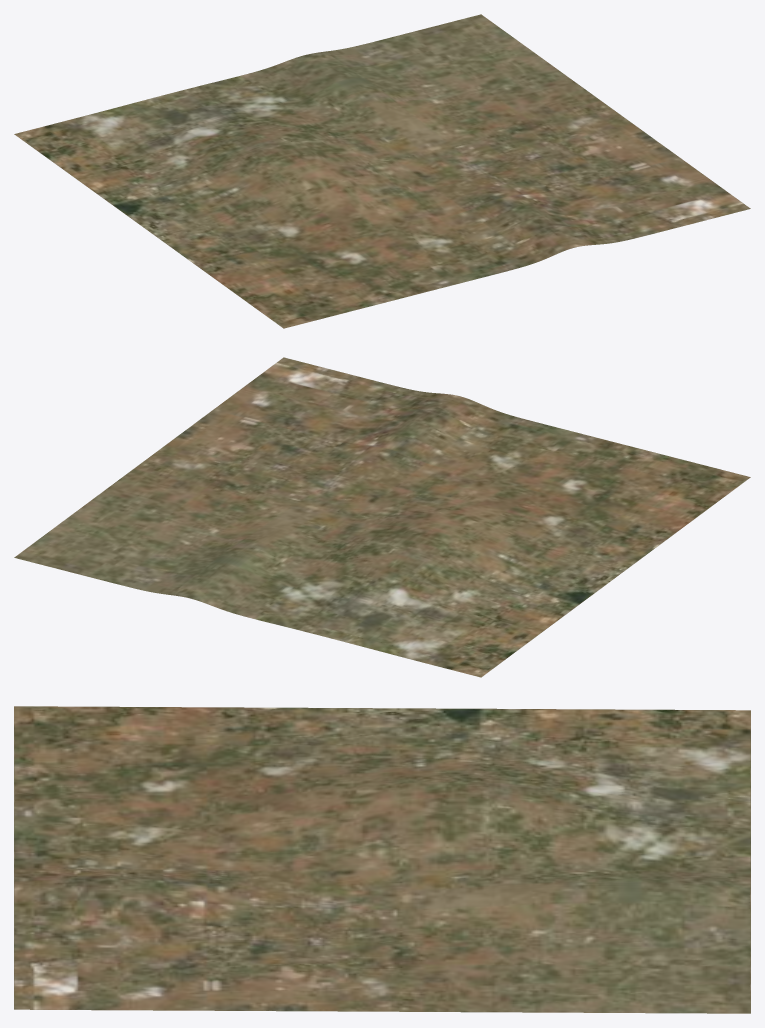
3 renders of one model, top to bottom at view 1: azimuth 30°, elevation 25°; view 2: azimuth 150°, elevation 25°; view 3: azimuth 270°, elevation 25°, orthographic. The views are drawn at different scales.
Visible parts, largest first — view 1: geometry_0; view 2: geometry_0; view 3: geometry_0.
Boxes of the visible parts, <box> form: geometry_0: <box>14,14,750,328</box>; geometry_0: <box>14,357,750,677</box>; geometry_0: <box>14,706,750,1013</box>.
Bounding box in the file's own units: 10000 × 386 × 10000.
Materials: 1 (1 with a texture image).
